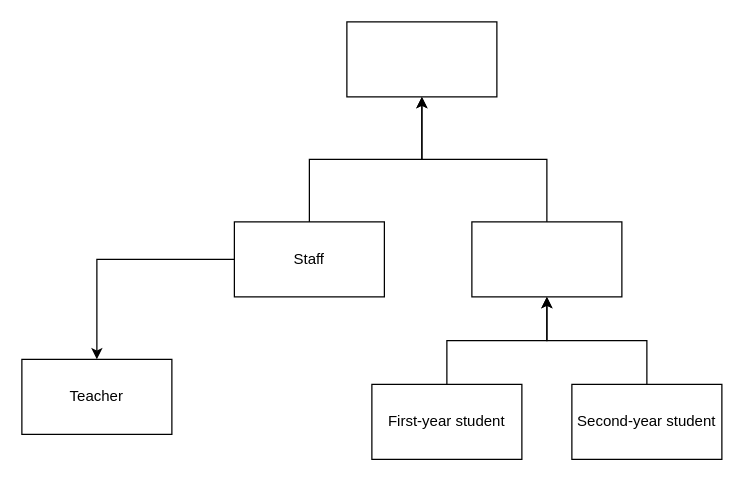
This 744x481 diagram has some shape labels left out. The shapes that lost their labels are listed below. From the top down, each one's centre as x and y in pixels, then its label:
At pixel 421 59: "Person".
At pixel 546 259: "Student".
